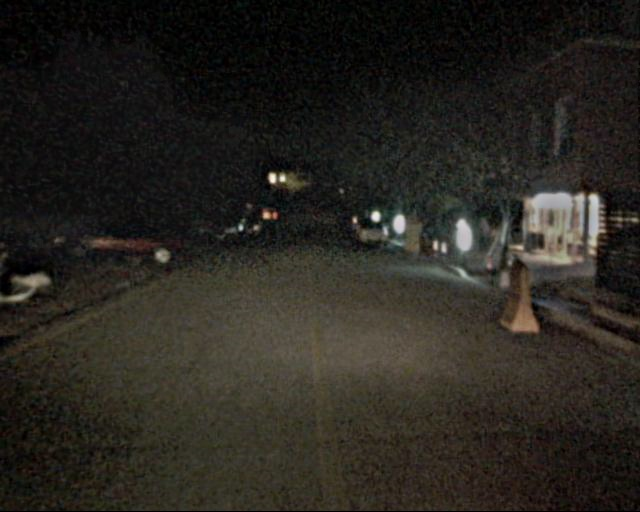person: (474, 216, 493, 263)
